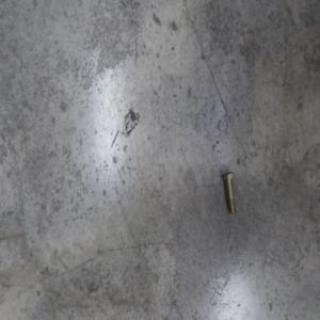Bolttrack_idkeyframe: (219, 168, 233, 213)
